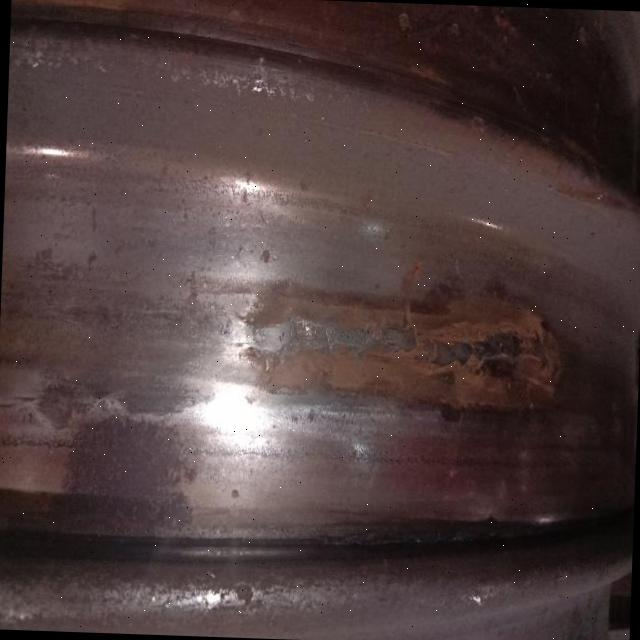Peeling: (432, 329, 527, 373)
